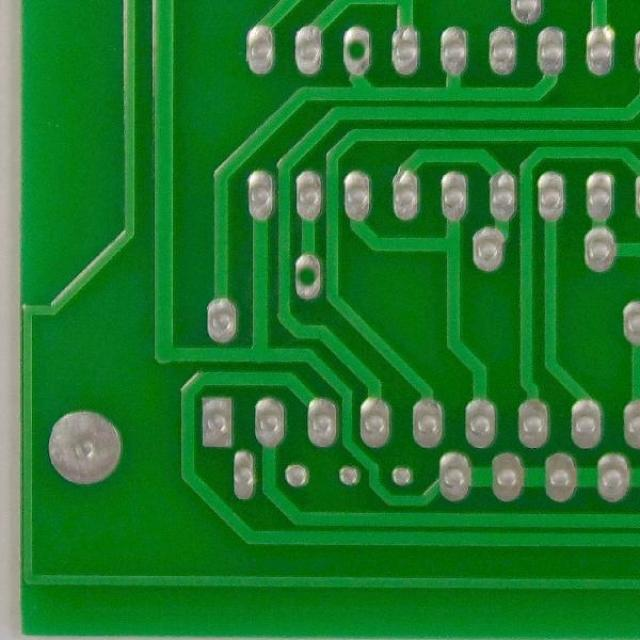Missing_Hole: (339, 24, 376, 76), (291, 250, 324, 300)
